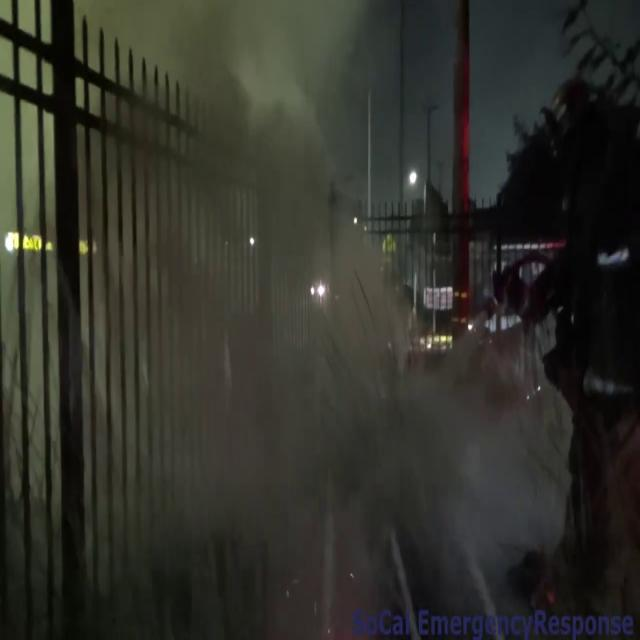Smoke: (132, 0, 420, 629), (342, 307, 567, 568)
